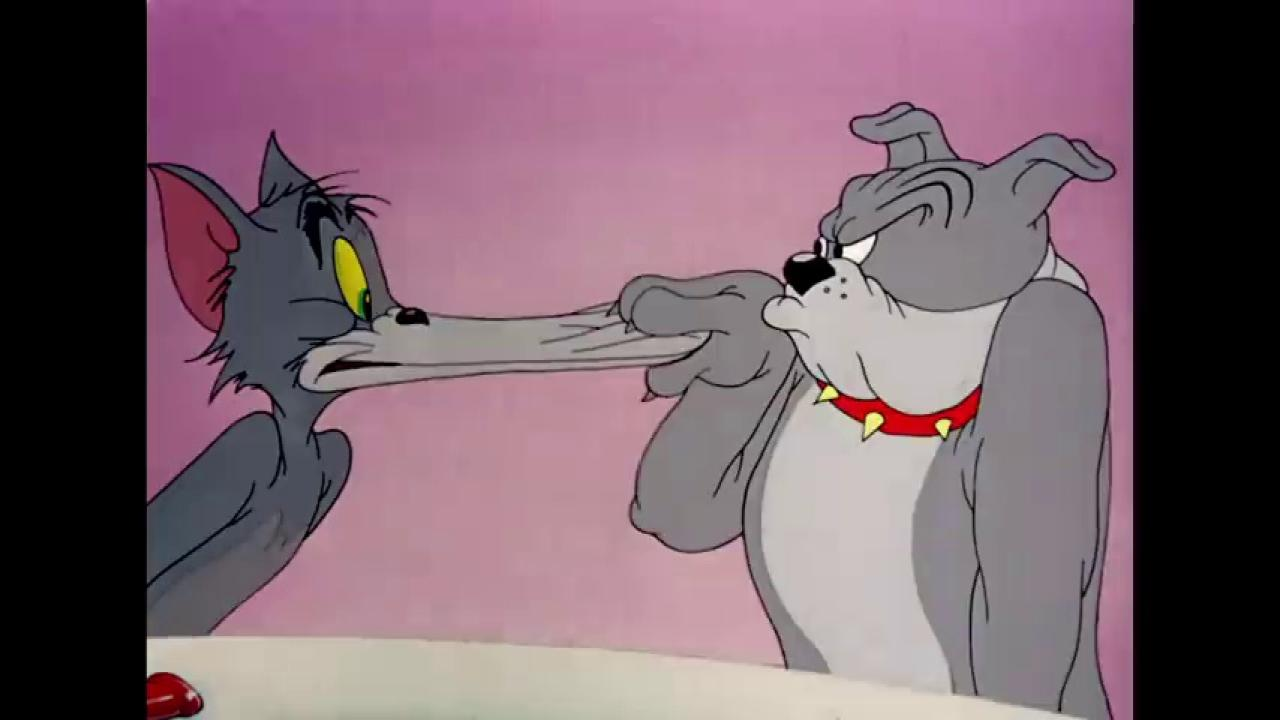Tom: (145, 121, 713, 640)
